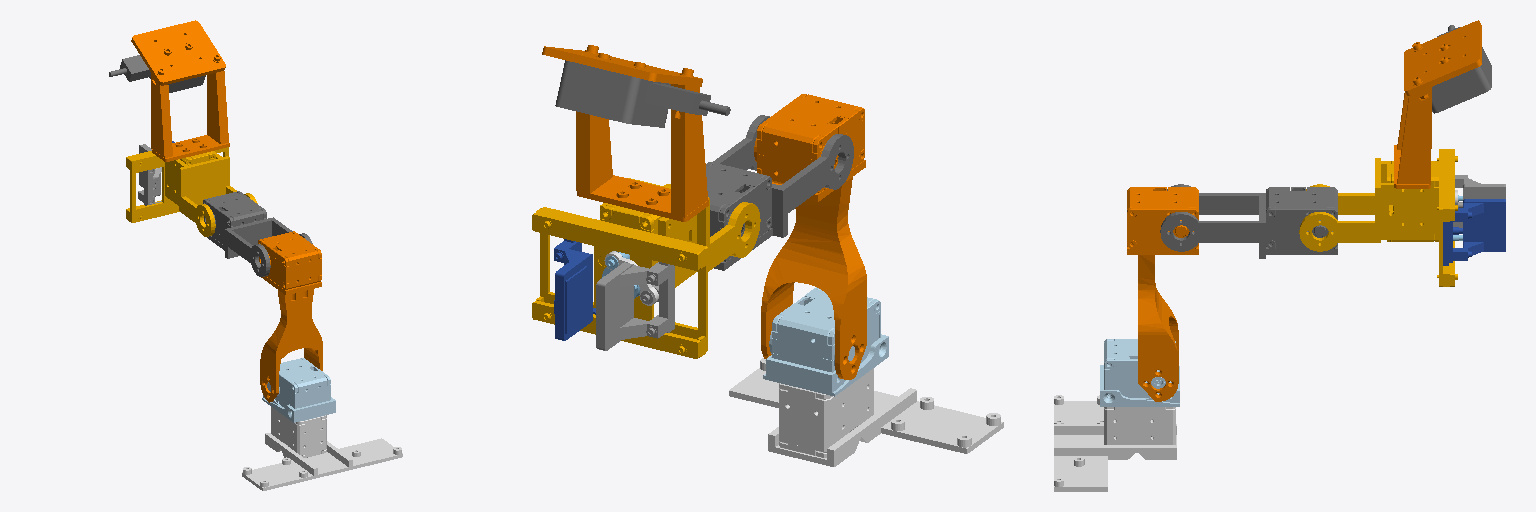
URDF robot description (low_cost_xl430_pg3_d405):
<?xml version='1.0' encoding='utf-8'?>
<robot name="low_cost_xl430_pg3_d405">
  <link name="base_link">
    <visual>
      <origin xyz="0 0 0" rpy="0 -0 0" />
      <geometry>
        <mesh filename="assets/base_link.stl" />
      </geometry>
      <material name="base_link_material">
        <color rgba="0.917647 0.917647 0.917647 1" />
      </material>
    </visual>
    <collision>
      <origin xyz="0 0 0" rpy="0 -0 0" />
      <geometry>
        <mesh filename="assets/base_link.stl" />
      </geometry>
    </collision>
  </link>
  <link name="shoulder_yaw">
    <visual>
      <origin xyz="0 0 0.02" rpy="-3.14159 -0 -0" />
      <geometry>
        <mesh filename="assets/shoulder_yaw.stl" />
      </geometry>
      <material name="shoulder_yaw_material">
        <color rgba="0.768627 0.886275 0.952941 1" />
      </material>
    </visual>
    <collision>
      <origin xyz="0 0 0.02" rpy="-3.14159 -0 -0" />
      <geometry>
        <mesh filename="assets/shoulder_yaw.stl" />
      </geometry>
    </collision>
  </link>
  <link name="upper_arm">
    <visual>
      <origin xyz="-0.0563 -0 0.0002" rpy="-3.14159 -1.5708 0" />
      <geometry>
        <mesh filename="assets/upper_arm.stl" />
      </geometry>
      <material name="upper_arm_material">
        <color rgba="0.972549 0.529412 0.00392157 1" />
      </material>
    </visual>
    <collision>
      <origin xyz="-0.0563 -0 0.0002" rpy="-3.14159 -1.5708 0" />
      <geometry>
        <mesh filename="assets/upper_arm.stl" />
      </geometry>
    </collision>
  </link>
  <link name="forearm">
    <visual>
      <origin xyz="0.1646 0.0148 -0.0002" rpy="-3.14159 1.5708 0" />
      <geometry>
        <mesh filename="assets/forearm.stl" />
      </geometry>
      <material name="forearm_material">
        <color rgba="0.498039 0.498039 0.498039 1" />
      </material>
    </visual>
    <collision>
      <origin xyz="0.1646 0.0148 -0.0002" rpy="-3.14159 1.5708 0" />
      <geometry>
        <mesh filename="assets/forearm.stl" />
      </geometry>
    </collision>
  </link>
  <link name="wrist">
    <visual>
      <origin xyz="0.1646 0.1049 -0.0002" rpy="3.14159 1.5708 0" />
      <geometry>
        <mesh filename="assets/wrist.stl" />
      </geometry>
      <material name="wrist_material">
        <color rgba="0.980392 0.713725 0.00392157 1" />
      </material>
    </visual>
    <collision>
      <origin xyz="0.1646 0.1049 -0.0002" rpy="3.14159 1.5708 0" />
      <geometry>
        <mesh filename="assets/wrist.stl" />
      </geometry>
    </collision>
  </link>
  <link name="gripper_crank">
    <visual>
      <origin xyz="0.0002 -0.1646 0.1649" rpy="-1.5708 -0 -0" />
      <geometry>
        <mesh filename="assets/gripper_crank.stl" />
      </geometry>
      <material name="gripper_crank_material">
        <color rgba="0.615686 0.811765 0.929412 1" />
      </material>
    </visual>
    <collision>
      <origin xyz="0.0002 -0.1646 0.1649" rpy="-1.5708 -0 -0" />
      <geometry>
        <mesh filename="assets/gripper_crank.stl" />
      </geometry>
    </collision>
  </link>
  <link name="coupler_l">
    <visual>
      <origin xyz="0.0002 -0.1786 0.1649" rpy="-1.5708 -0 -0" />
      <geometry>
        <mesh filename="assets/coupler_l.stl" />
      </geometry>
      <material name="coupler_l_material">
        <color rgba="0.917647 0.917647 0.917647 1" />
      </material>
    </visual>
    <collision>
      <origin xyz="0.0002 -0.1786 0.1649" rpy="-1.5708 -0 -0" />
      <geometry>
        <mesh filename="assets/coupler_l.stl" />
      </geometry>
    </collision>
  </link>
  <link name="closing_left_1">
    </link>
  <joint name="closing_left_1_frame" type="fixed">
    <origin xyz="-0.0194936 -0.014 -0.028" rpy="-3.14159 -0 -0" />
    <parent link="coupler_l" />
    <child link="closing_left_1" />
  </joint>
  <joint name="coupler_left" type="revolute">
    <origin xyz="-0 0.014 -0" rpy="-0 -0 -0" />
    <parent link="gripper_crank" />
    <child link="coupler_l" />
    <axis xyz="0 0 1" />
    <limit effort="0" velocity="0" lower="-3.141592653589793" upper="3.141592653589793" />
  </joint>
  <link name="coupler_r">
    <visual>
      <origin xyz="0.0002 -0.1506 0.1649" rpy="-1.5708 -0 0" />
      <geometry>
        <mesh filename="assets/coupler_r.stl" />
      </geometry>
      <material name="coupler_r_material">
        <color rgba="0.768627 0.886275 0.952941 1" />
      </material>
    </visual>
    <collision>
      <origin xyz="0.0002 -0.1506 0.1649" rpy="-1.5708 -0 0" />
      <geometry>
        <mesh filename="assets/coupler_r.stl" />
      </geometry>
    </collision>
  </link>
  <link name="closing_right_1">
    </link>
  <joint name="closing_right_1_frame" type="fixed">
    <origin xyz="0.0194936 0.014 -0.028" rpy="-3.14159 -0 0" />
    <parent link="coupler_r" />
    <child link="closing_right_1" />
  </joint>
  <joint name="coupler_right" type="revolute">
    <origin xyz="0 -0.014 0" rpy="-0 -0 -0" />
    <parent link="gripper_crank" />
    <child link="coupler_r" />
    <axis xyz="0 0 1" />
    <limit effort="0" velocity="0" lower="-3.141592653589793" upper="3.141592653589793" />
  </joint>
  <joint name="gripper_drive" type="revolute">
    <origin xyz="0 -0.06 -0" rpy="-1.5708 1.5708 0" />
    <parent link="wrist" />
    <child link="gripper_crank" />
    <axis xyz="0 0 1" />
    <limit effort="0" velocity="0" lower="-0.785398" upper="1.13446" />
  </joint>
  <link name="jaw_l">
    <visual>
      <origin xyz="0.1646 0.1649 -0.0002" rpy="3.14159 1.5708 0" />
      <geometry>
        <mesh filename="assets/jaw_l.stl" />
      </geometry>
      <material name="jaw_l_material">
        <color rgba="0.647059 0.647059 0.647059 1" />
      </material>
    </visual>
    <collision>
      <origin xyz="0.1646 0.1649 -0.0002" rpy="3.14159 1.5708 0" />
      <geometry>
        <mesh filename="assets/jaw_l.stl" />
      </geometry>
    </collision>
  </link>
  <link name="closing_left_2">
    </link>
  <joint name="closing_left_2_frame" type="fixed">
    <origin xyz="0 -0.028 0.0194936" rpy="1.5708 1.5708 0" />
    <parent link="jaw_l" />
    <child link="closing_left_2" />
  </joint>
  <joint name="jaw_left" type="prismatic">
    <origin xyz="0 -0.06 -0" rpy="0 -0 0" />
    <parent link="wrist" />
    <child link="jaw_l" />
    <axis xyz="0 0 1" />
    <limit effort="0" velocity="0" lower="-0.00752987" upper="0.016454" />
  </joint>
  <link name="jaw_r">
    <visual>
      <origin xyz="0.1646 0.1649 -0.0002" rpy="3.14159 1.5708 0" />
      <geometry>
        <mesh filename="assets/jaw_r.stl" />
      </geometry>
      <material name="jaw_r_material">
        <color rgba="0.231373 0.380392 0.705882 1" />
      </material>
    </visual>
    <collision>
      <origin xyz="0.1646 0.1649 -0.0002" rpy="3.14159 1.5708 0" />
      <geometry>
        <mesh filename="assets/jaw_r.stl" />
      </geometry>
    </collision>
  </link>
  <link name="closing_right_2">
    </link>
  <joint name="closing_right_2_frame" type="fixed">
    <origin xyz="0 -0.028 -0.0194936" rpy="1.5708 1.5708 0" />
    <parent link="jaw_r" />
    <child link="closing_right_2" />
  </joint>
  <joint name="jaw_right" type="prismatic">
    <origin xyz="0 -0.06 -0" rpy="0 -0 0" />
    <parent link="wrist" />
    <child link="jaw_r" />
    <axis xyz="0 0 1" />
    <limit effort="0" velocity="0" lower="-0.016454" upper="0.00752987" />
  </joint>
  <link name="camera_mount">
    <visual>
      <origin xyz="0.0002 0.1649 0.19985" rpy="-3.14159 0 -0" />
      <geometry>
        <mesh filename="assets/camera_mount.stl" />
      </geometry>
      <material name="camera_mount_material">
        <color rgba="0.972549 0.529412 0.00392157 1" />
      </material>
    </visual>
    <collision>
      <origin xyz="0.0002 0.1649 0.19985" rpy="-3.14159 0 -0" />
      <geometry>
        <mesh filename="assets/camera_mount.stl" />
      </geometry>
    </collision>
  </link>
  <link name="camera_body">
    <visual>
      <origin xyz="0.0002 0.197 0.257" rpy="3.14159 0 -0" />
      <geometry>
        <mesh filename="assets/camera_body.stl" />
      </geometry>
      <material name="camera_body_material">
        <color rgba="0.498039 0.498039 0.498039 1" />
      </material>
    </visual>
    <collision>
      <origin xyz="0.0002 0.197 0.257" rpy="3.14159 0 -0" />
      <geometry>
        <mesh filename="assets/camera_body.stl" />
      </geometry>
    </collision>
  </link>
  <joint name="camera_body_fixed" type="fixed">
    <origin xyz="-0 -0.0321 -0.05715" rpy="0 0 -0" />
    <parent link="camera_mount" />
    <child link="camera_body" />
  </joint>
  <joint name="camera_mount_fixed" type="fixed">
    <origin xyz="-0.03525 -0.06 -0" rpy="-0 1.5708 0" />
    <parent link="wrist" />
    <child link="camera_mount" />
  </joint>
  <joint name="joint4_wrist" type="revolute">
    <origin xyz="-0 -0.0901 0" rpy="-0 0 -0" />
    <parent link="forearm" />
    <child link="wrist" />
    <axis xyz="0 0 1" />
    <limit effort="0" velocity="0" lower="-1.91986" upper="2.40855" />
  </joint>
  <joint name="joint3_elbow" type="revolute">
    <origin xyz="0.1083 -0.0148 0" rpy="-3.14159 0 -3.14159" />
    <parent link="upper_arm" />
    <child link="forearm" />
    <axis xyz="0 0 1" />
    <limit effort="0" velocity="0" lower="-3.141592653589793" upper="3.141592653589793" />
  </joint>
  <joint name="joint2_shoulder" type="revolute">
    <origin xyz="-0.0002 0 -0.0363" rpy="0 1.5708 0" />
    <parent link="shoulder_yaw" />
    <child link="upper_arm" />
    <axis xyz="0 0 1" />
    <limit effort="0" velocity="0" lower="-3.141592653589793" upper="3.141592653589793" />
  </joint>
  <joint name="joint1_yaw" type="revolute">
    <origin xyz="0 0 0.02" rpy="3.14159 -0 0" />
    <parent link="base_link" />
    <child link="shoulder_yaw" />
    <axis xyz="0 0 1" />
    <limit effort="0" velocity="0" lower="-3.141592653589793" upper="3.141592653589793" />
  </joint>
</robot>

--- Facts derived from the render (not from the file) ---
The picture shows the robot from 3 angles, left to right: view 1: azimuth 30°, elevation 25°; view 2: azimuth 150°, elevation 25°; view 3: azimuth 270°, elevation 25°; orthographic projection.
Robot: low_cost_xl430_pg3_d405 — 16 links, 15 joints (7 revolute, 2 prismatic, 6 fixed); root link base_link; default pose: all joints at 0.
Links seen in each view (by area): view 1: camera_mount, upper_arm, base_link, wrist, forearm, shoulder_yaw, camera_body, jaw_l; view 2: upper_arm, wrist, base_link, camera_mount, forearm, shoulder_yaw, camera_body, jaw_l, jaw_r; view 3: wrist, base_link, upper_arm, forearm, camera_mount, shoulder_yaw, jaw_r, camera_body, jaw_l.
Boxes of the visible links, bbox=[...] form: camera_mount: bbox=[131, 20, 229, 161]; upper_arm: bbox=[258, 231, 322, 402]; base_link: bbox=[242, 407, 402, 490]; wrist: bbox=[126, 147, 257, 236]; forearm: bbox=[203, 191, 312, 276]; shoulder_yaw: bbox=[262, 358, 335, 422]; camera_body: bbox=[109, 55, 205, 92]; jaw_l: bbox=[138, 144, 161, 205]; upper_arm: bbox=[754, 94, 866, 379]; wrist: bbox=[532, 178, 760, 358]; base_link: bbox=[729, 358, 1003, 466]; camera_mount: bbox=[542, 45, 708, 221]; forearm: bbox=[706, 115, 853, 270]; shoulder_yaw: bbox=[763, 287, 888, 396]; camera_body: bbox=[555, 60, 730, 127]; jaw_l: bbox=[596, 262, 674, 350]; jaw_r: bbox=[554, 239, 595, 340]; wrist: bbox=[1299, 149, 1457, 286]; base_link: bbox=[1054, 395, 1176, 491]; upper_arm: bbox=[1127, 187, 1198, 401]; forearm: bbox=[1160, 184, 1337, 258]; camera_mount: bbox=[1394, 20, 1481, 188]; shoulder_yaw: bbox=[1100, 339, 1179, 406]; jaw_r: bbox=[1443, 199, 1505, 265]; camera_body: bbox=[1432, 25, 1491, 113]; jaw_l: bbox=[1453, 175, 1505, 227].
Size in the robot's own frame: 0.133 by 0.2936 by 0.292 metres.
11 mesh visuals loaded from 12 distinct referenced files (11 binary STL); not drawn: 1 (reference not matched to a file when rendering).
